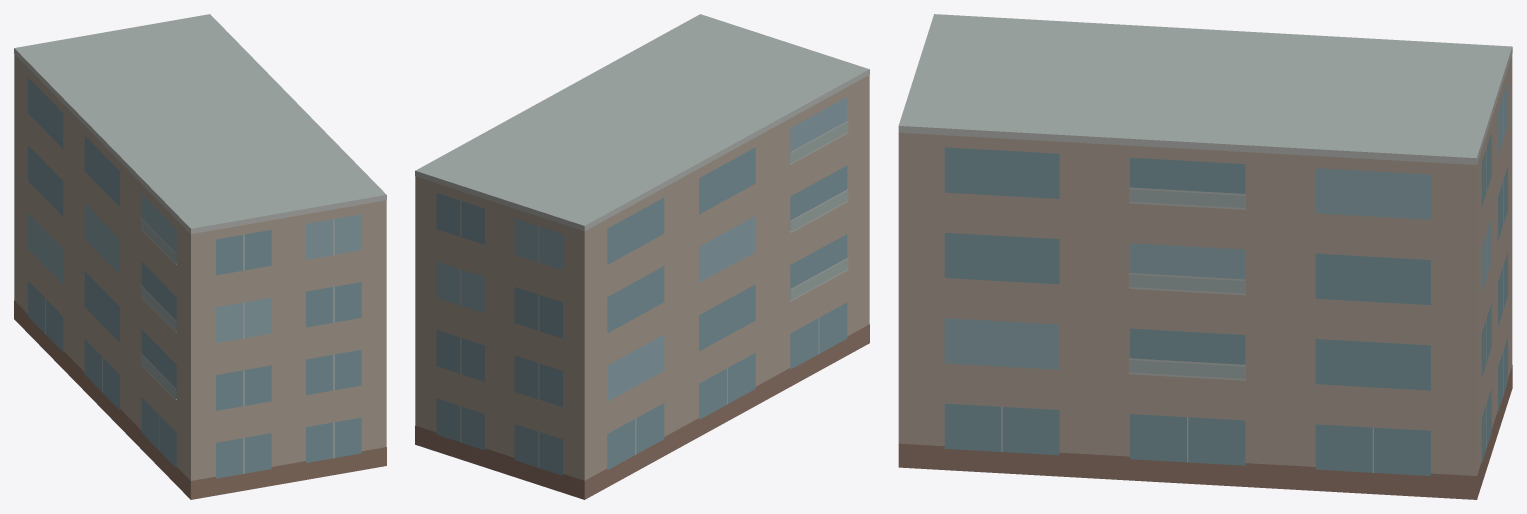
The model's file is survey-upis-32777618.glb.
The picture shows the model from 3 angles, left to right: view 1: azimuth 30°, elevation 25°; view 2: azimuth 150°, elevation 25°; view 3: azimuth 270°, elevation 25°; orthographic projection. The views are drawn at different scales.
Visible parts, largest first — view 1: survey-upis-32777618.tmp; view 2: survey-upis-32777618.tmp; view 3: survey-upis-32777618.tmp.
Boxes of the visible parts, x1=… form: survey-upis-32777618.tmp: x1=14, y1=14, x2=386, y2=499; survey-upis-32777618.tmp: x1=415, y1=14, x2=869, y2=499; survey-upis-32777618.tmp: x1=898, y1=14, x2=1512, y2=499.
Bounding box in the file's own units: 11.05 × 12.2 × 19.88.
